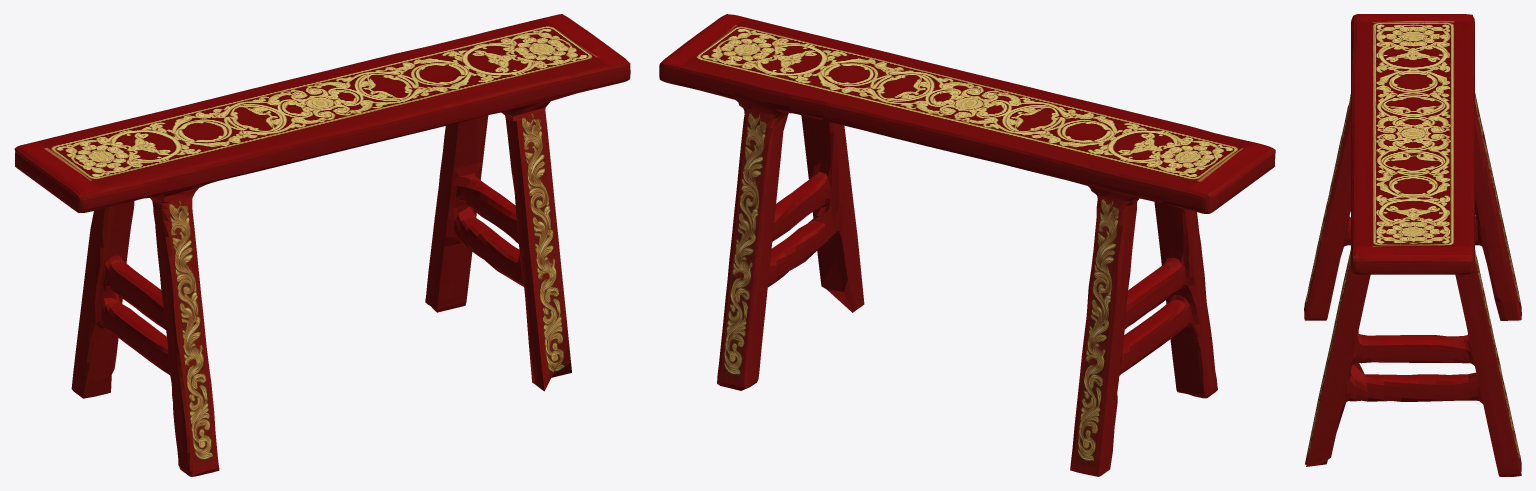
Rendered from Meshy_AI_Crimson_Bench_with_Go_0510060243_texture.obj.
3 renders of one model, left to right at view 1: azimuth 30°, elevation 25°; view 2: azimuth 150°, elevation 25°; view 3: azimuth 270°, elevation 25°, orthographic. The views are drawn at different scales.
Visible parts, largest first — view 1: Meshy_AI_Crimson_Bench_with_Go_0510060243_texture; view 2: Meshy_AI_Crimson_Bench_with_Go_0510060243_texture; view 3: Meshy_AI_Crimson_Bench_with_Go_0510060243_texture.
Part boxes in pixels (bbox=[...]): Meshy_AI_Crimson_Bench_with_Go_0510060243_texture: bbox=[14, 14, 630, 476]; Meshy_AI_Crimson_Bench_with_Go_0510060243_texture: bbox=[659, 14, 1275, 476]; Meshy_AI_Crimson_Bench_with_Go_0510060243_texture: bbox=[1304, 14, 1521, 476].
Bounding box in the file's own units: 1.91 × 0.9462 × 0.7183.
1 material, 1 textured.
